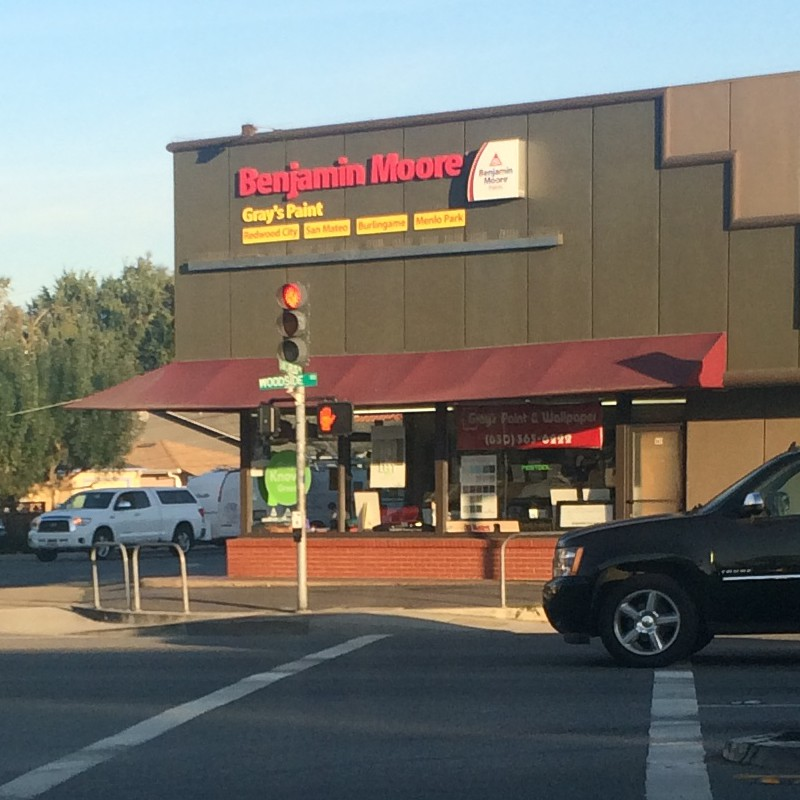stop: (314, 403, 359, 441)
